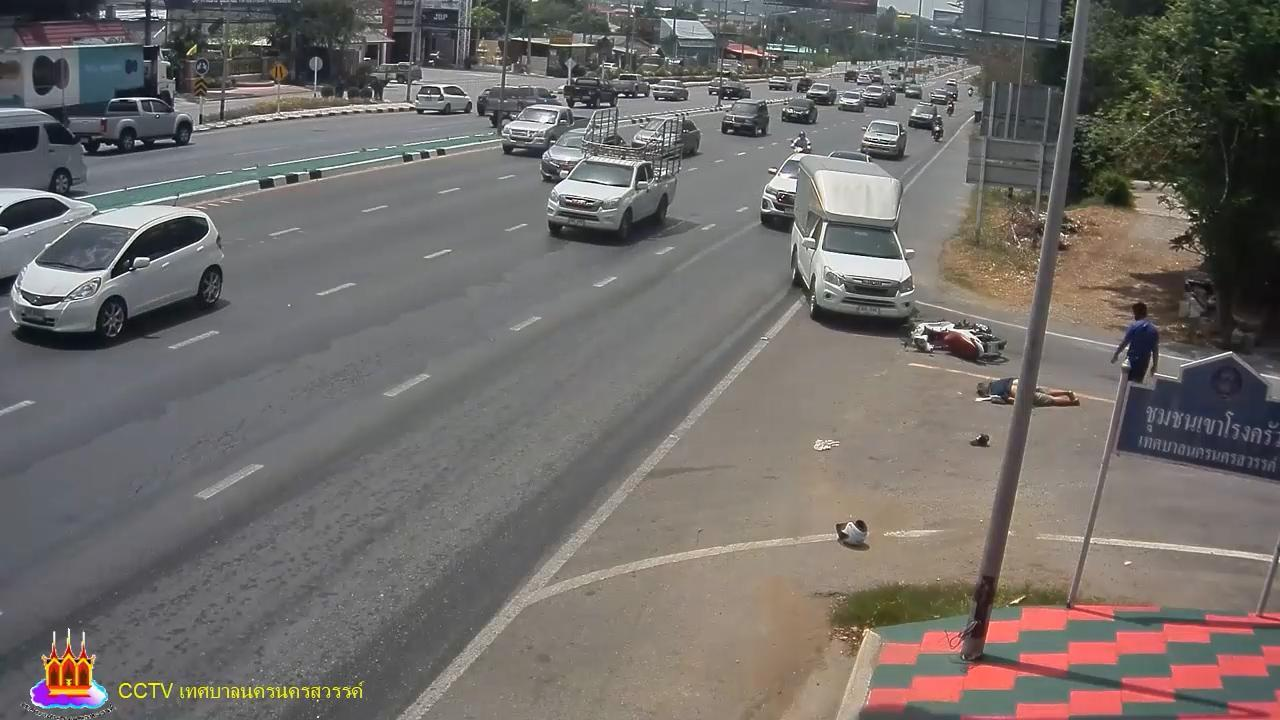accident: (974, 376, 1082, 412)
